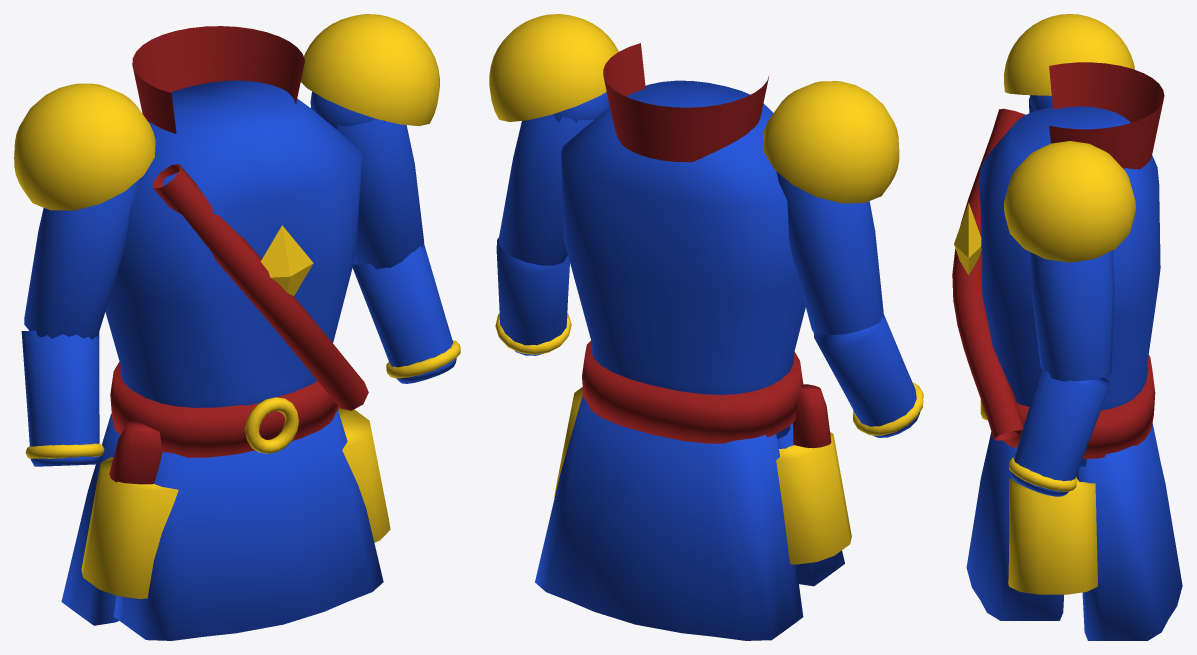
File: imperial_lord.glb
The picture shows the model from 3 angles, left to right: view 1: azimuth 30°, elevation 25°; view 2: azimuth 150°, elevation 25°; view 3: azimuth 270°, elevation 25°; orthographic projection. The views are drawn at different scales.
Visible parts, largest first — view 1: garment_torso, garment_skirt_front, imperial_pauldron_-1, imperial_pauldron_1, upper_sleeve_r, imperial_sash, high_collar, forearm_sleeve_r, belt_strap, upper_sleeve_l, tasset_-1, forearm_sleeve_l (+8 smaller); view 2: garment_torso, garment_skirt_back, imperial_pauldron_-1, upper_sleeve_r, belt_strap, imperial_pauldron_1, high_collar, upper_sleeve_l, tasset_-1, forearm_sleeve_r, forearm_sleeve_l, belt_pouch (+4 smaller); view 3: garment_torso, garment_skirt_back, imperial_pauldron_1, upper_sleeve_l, tasset_1, high_collar, garment_skirt_front, forearm_sleeve_l, imperial_sash, imperial_pauldron_-1, belt_strap, imperial_crest (+1 smaller).
Part boxes in pixels (x1,y1,x2,y2): garment_torso: (105, 80, 362, 407); garment_skirt_front: (113, 410, 383, 640); imperial_pauldron_-1: (14, 83, 155, 210); imperial_pauldron_1: (300, 14, 439, 126); upper_sleeve_r: (24, 178, 140, 339); imperial_sash: (153, 164, 368, 410); high_collar: (132, 26, 304, 133); forearm_sleeve_r: (21, 330, 99, 466); belt_strap: (110, 362, 338, 457); upper_sleeve_l: (311, 107, 424, 268); tasset_-1: (81, 457, 178, 598); forearm_sleeve_l: (352, 243, 456, 383); garment_torso: (561, 80, 805, 438); garment_skirt_back: (535, 394, 803, 640); imperial_pauldron_-1: (763, 81, 899, 203); upper_sleeve_r: (776, 171, 884, 335); belt_strap: (582, 340, 803, 443); imperial_pauldron_1: (489, 14, 618, 121); high_collar: (603, 43, 768, 162); upper_sleeve_l: (499, 114, 594, 265); tasset_-1: (776, 432, 851, 564); forearm_sleeve_r: (813, 315, 920, 437); forearm_sleeve_l: (496, 237, 569, 355); belt_pouch: (792, 384, 831, 448); garment_torso: (978, 106, 1160, 466); garment_skirt_back: (1076, 424, 1182, 640); imperial_pauldron_1: (1004, 141, 1135, 262); upper_sleeve_l: (1030, 250, 1114, 381); tasset_1: (1008, 476, 1097, 594); high_collar: (1049, 62, 1164, 169); garment_skirt_front: (966, 432, 1063, 620); forearm_sleeve_l: (1011, 368, 1110, 496); imperial_sash: (952, 108, 1025, 440); imperial_pauldron_-1: (1004, 14, 1134, 95); belt_strap: (1002, 355, 1155, 459); imperial_crest: (954, 202, 981, 275).
Size of the model in its own units: 0.6892 by 0.8378 by 0.3482.
